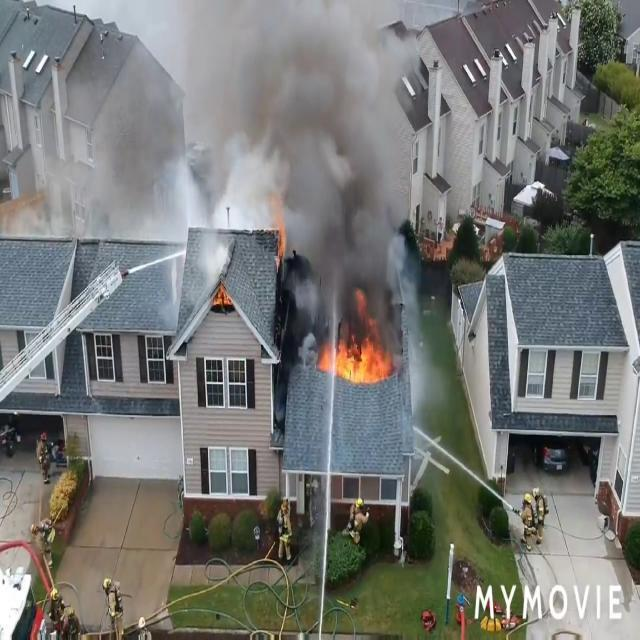Fire: (324, 336, 394, 392)
Smoke: (271, 0, 415, 332), (88, 9, 286, 237)
